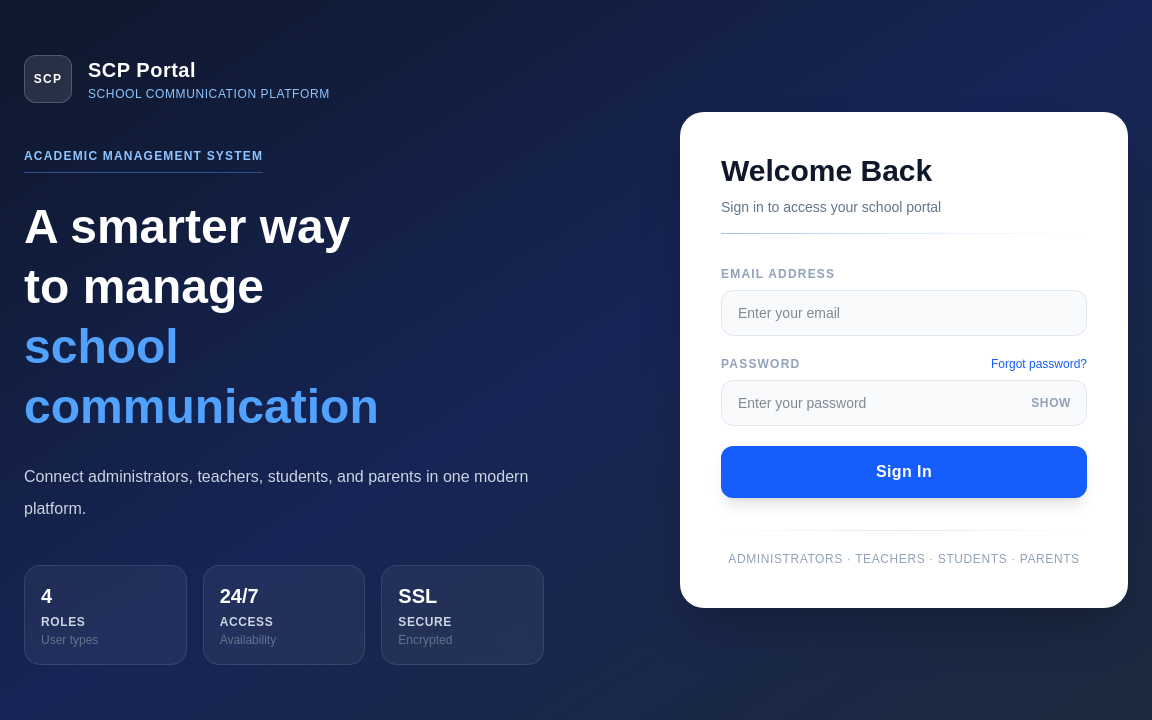
Test: LoginPage — forgot password modal › closes modal when Cancel is clicked
This screenshot has width=1152, height=720.
Click the button "Forgot password?": (1039, 364) top-left (991, 356), bottom-right (1087, 372)
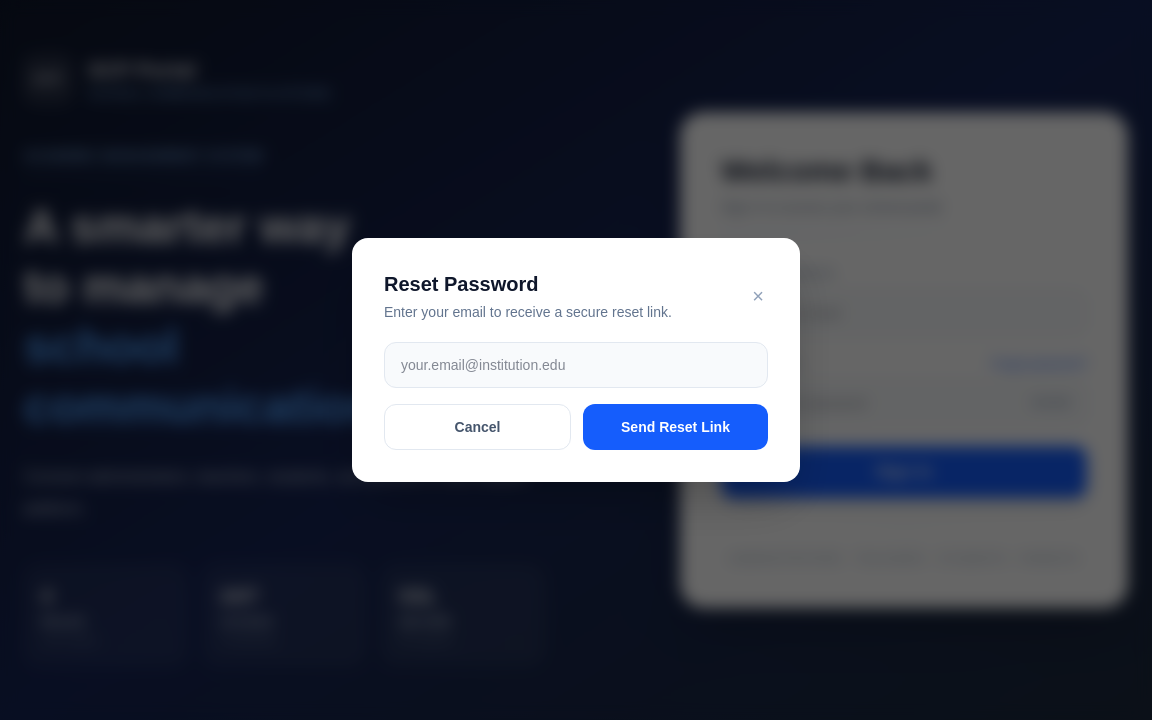
Now the heading "Reset Password" is shown, box top-left (384, 273), bottom-right (538, 295)
Click the button "Cancel": (478, 427) top-left (384, 404), bottom-right (571, 450)
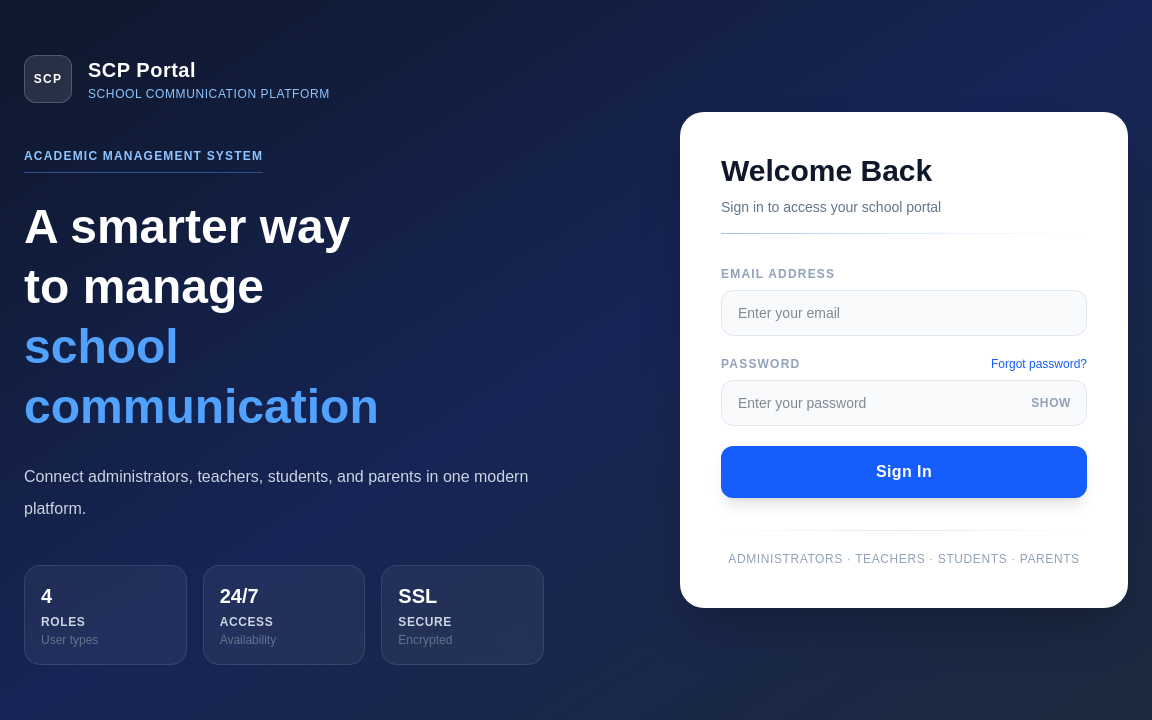
Now the heading "Reset Password" is gone
